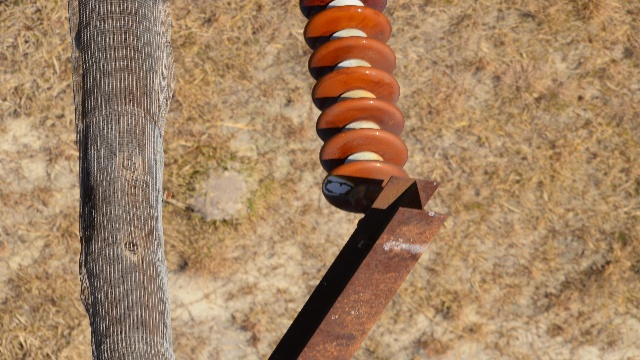insulator_unspecified: (298, 0, 410, 212)
pollution_flashover_local: (322, 176, 351, 204)
